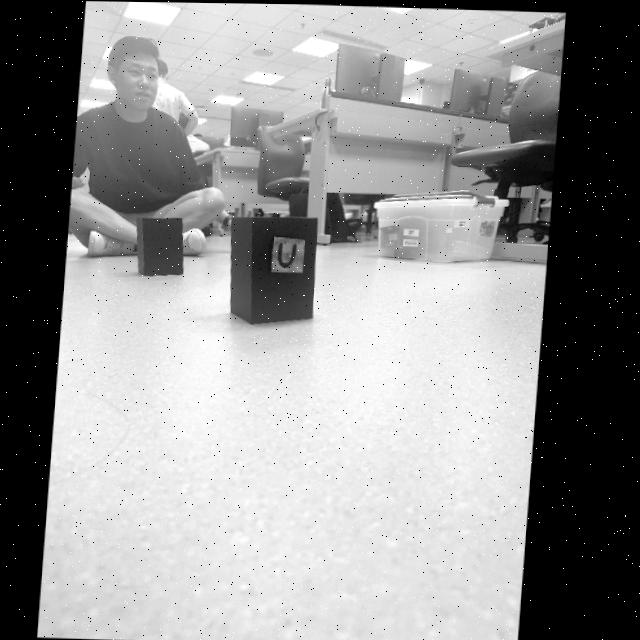U: (281, 242, 300, 265)
